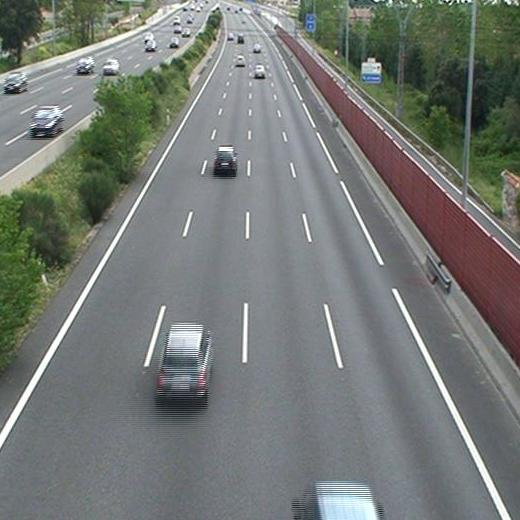car: (156, 323, 211, 395), (215, 148, 237, 171), (255, 65, 266, 77), (235, 56, 245, 66)
